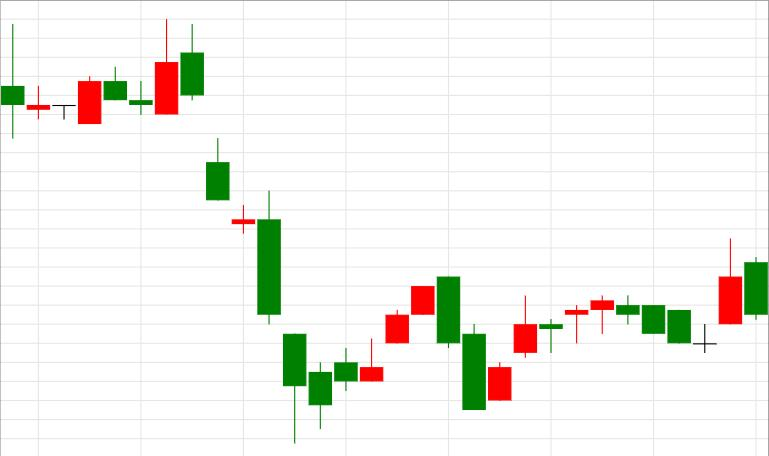bearish_engulfing_fall: (309, 277, 460, 429)
morning_star_rise: (591, 239, 742, 353)
